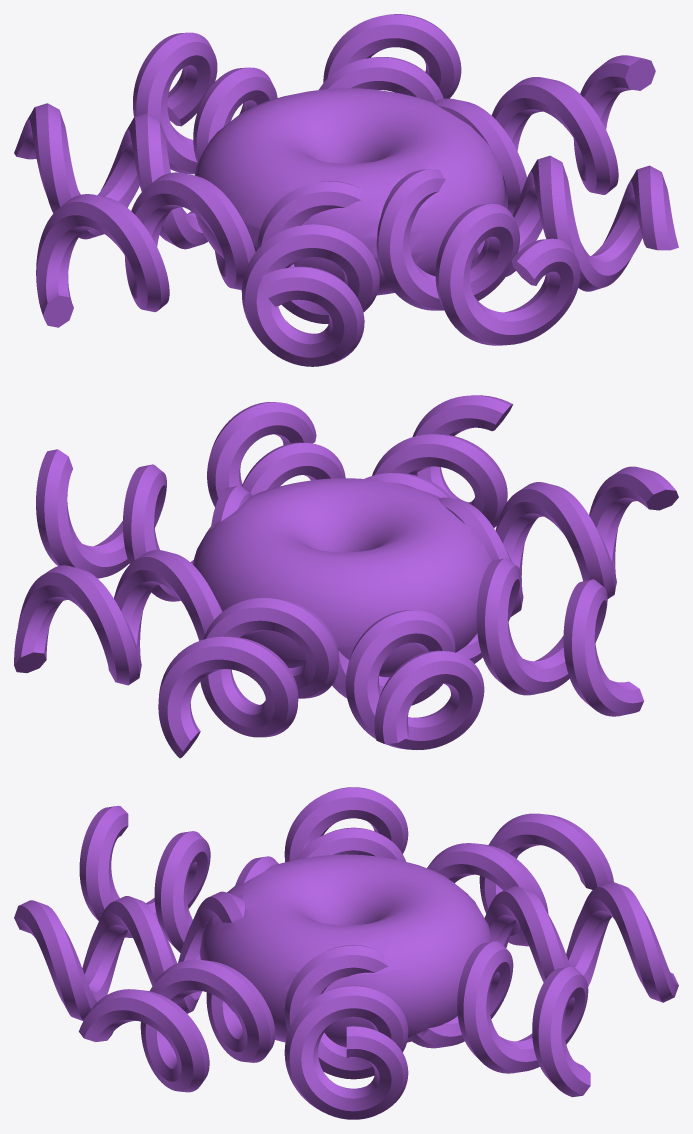
Rendered from PURPLEBACTERIA2.fbx.
3 views of the same model, one above another, from view 1: azimuth 30°, elevation 25°; view 2: azimuth 150°, elevation 25°; view 3: azimuth 270°, elevation 25° (orthographic). The views are drawn at different scales.
Visible parts, largest first — view 1: pTorus3; view 2: pTorus3; view 3: pTorus3.
Part boxes in pixels (x1=…): pTorus3: x1=14, y1=14, x2=678, y2=366; pTorus3: x1=14, y1=395, x2=678, y2=758; pTorus3: x1=14, y1=787, x2=678, y2=1119.
Bounding box in the file's own units: 20.32 × 4.13 × 20.36.
